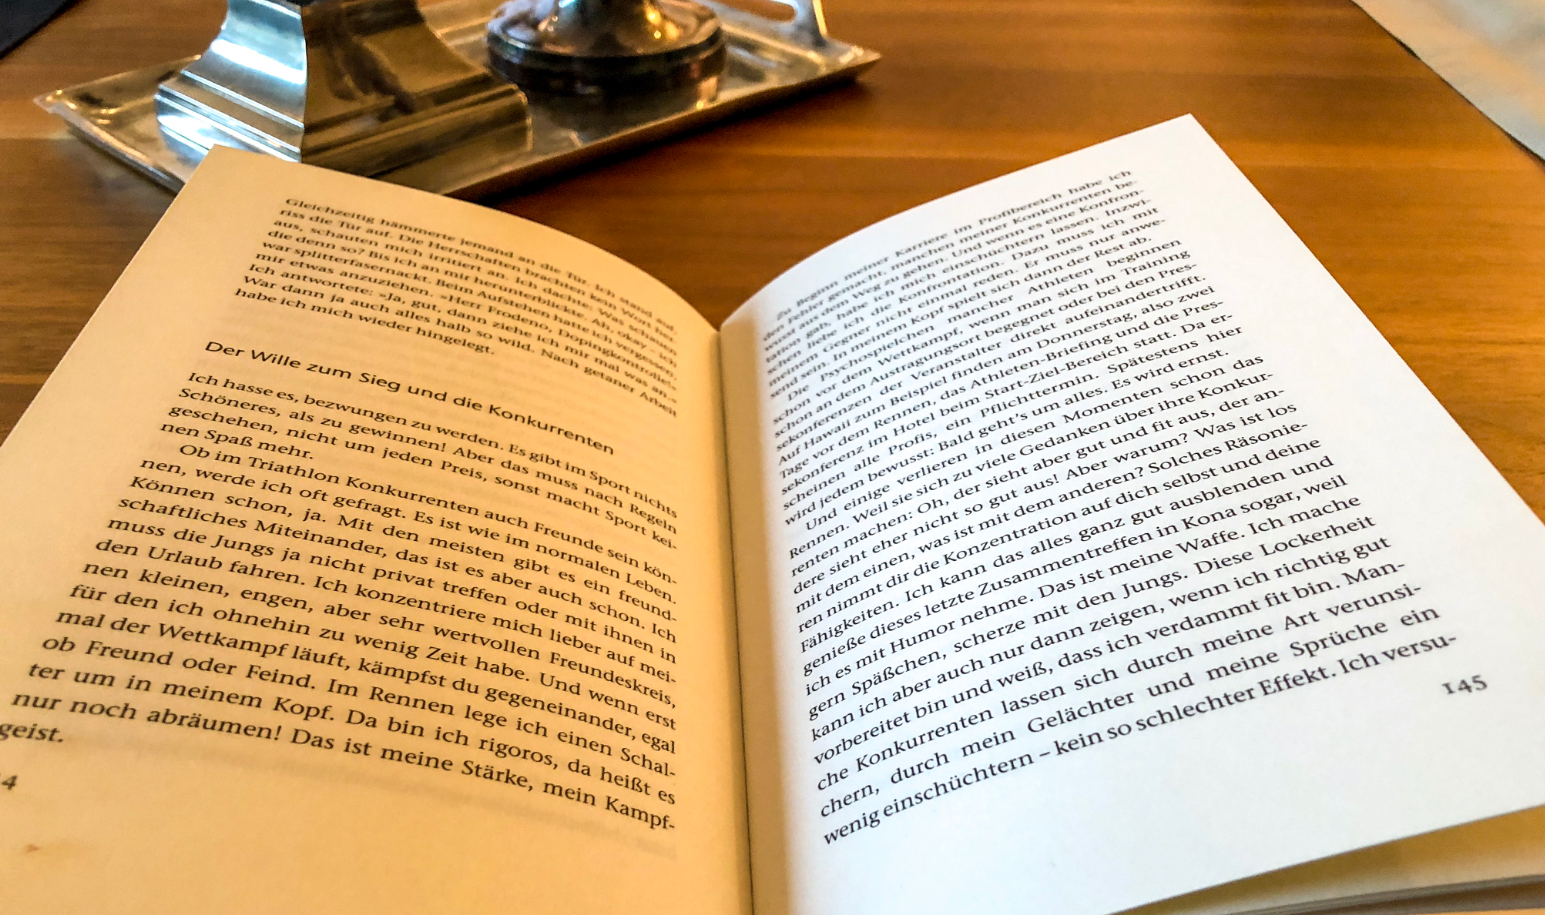book: (11, 103, 1545, 903)
